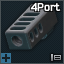Glock 9x19 Carver Custom 4 Port muzzle brake: (0, 0, 64, 64)
